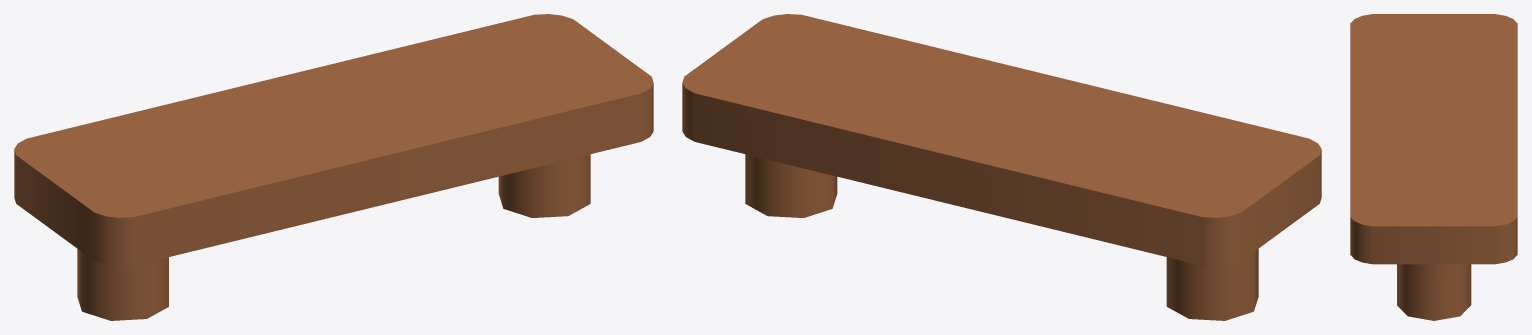
Rendered from Bangku.FBX.
3 views of the same model, side by side, from view 1: azimuth 30°, elevation 25°; view 2: azimuth 150°, elevation 25°; view 3: azimuth 270°, elevation 25° (orthographic). The views are drawn at different scales.
Visible parts, largest first — view 1: Object002; view 2: Object002; view 3: Object002.
Part boxes in pixels (x1=…): Object002: x1=14, y1=14, x2=653, y2=320; Object002: x1=682, y1=14, x2=1321, y2=320; Object002: x1=1350, y1=14, x2=1517, y2=320.
Bounding box in the file's own units: 106 × 24.5 × 35.48.
